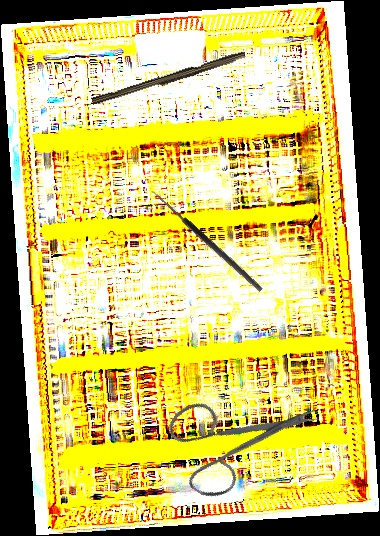Hook Surgical: (144, 188, 264, 298)
Iris Scissors: (146, 345, 323, 526)
Scalpel Handle: (91, 48, 247, 110)
